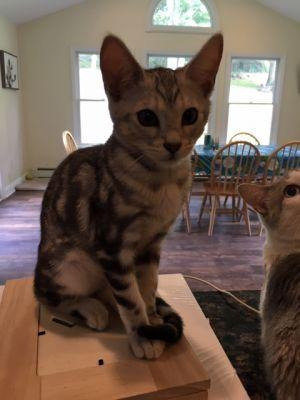bengal: (96, 29, 231, 168)
